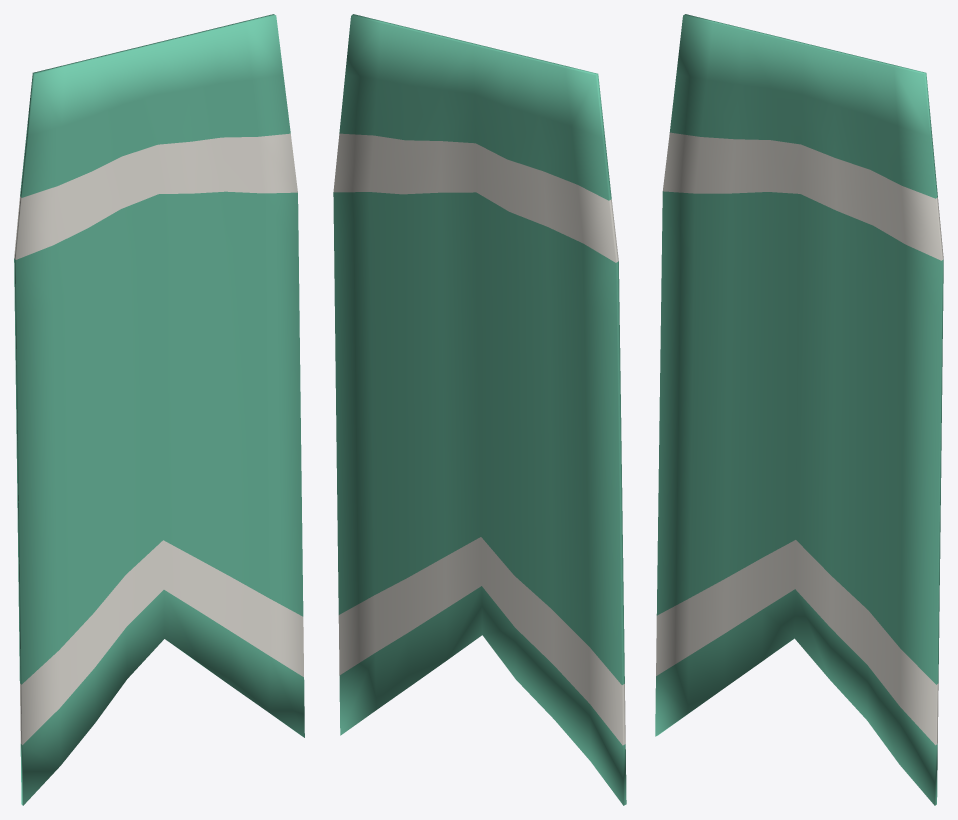
File: banner_teal_b.glb
3 renders of one model, left to right at view 1: azimuth 30°, elevation 25°; view 2: azimuth 150°, elevation 25°; view 3: azimuth 330°, elevation 25°, orthographic.
Visible parts, largest first — view 1: banner_teal_b; view 2: banner_teal_b; view 3: banner_teal_b.
Boxes of the visible parts, <box> form: banner_teal_b: <box>14,14,304,805</box>; banner_teal_b: <box>333,14,626,805</box>; banner_teal_b: <box>655,14,943,805</box>.
Bounding box in the file's own units: 1.1 × 2.7 × 0.0903.
